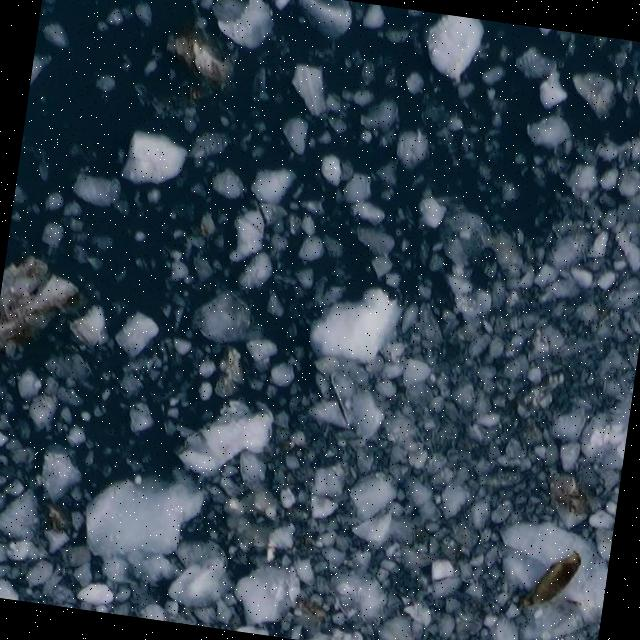seal: (509, 546, 593, 622)
